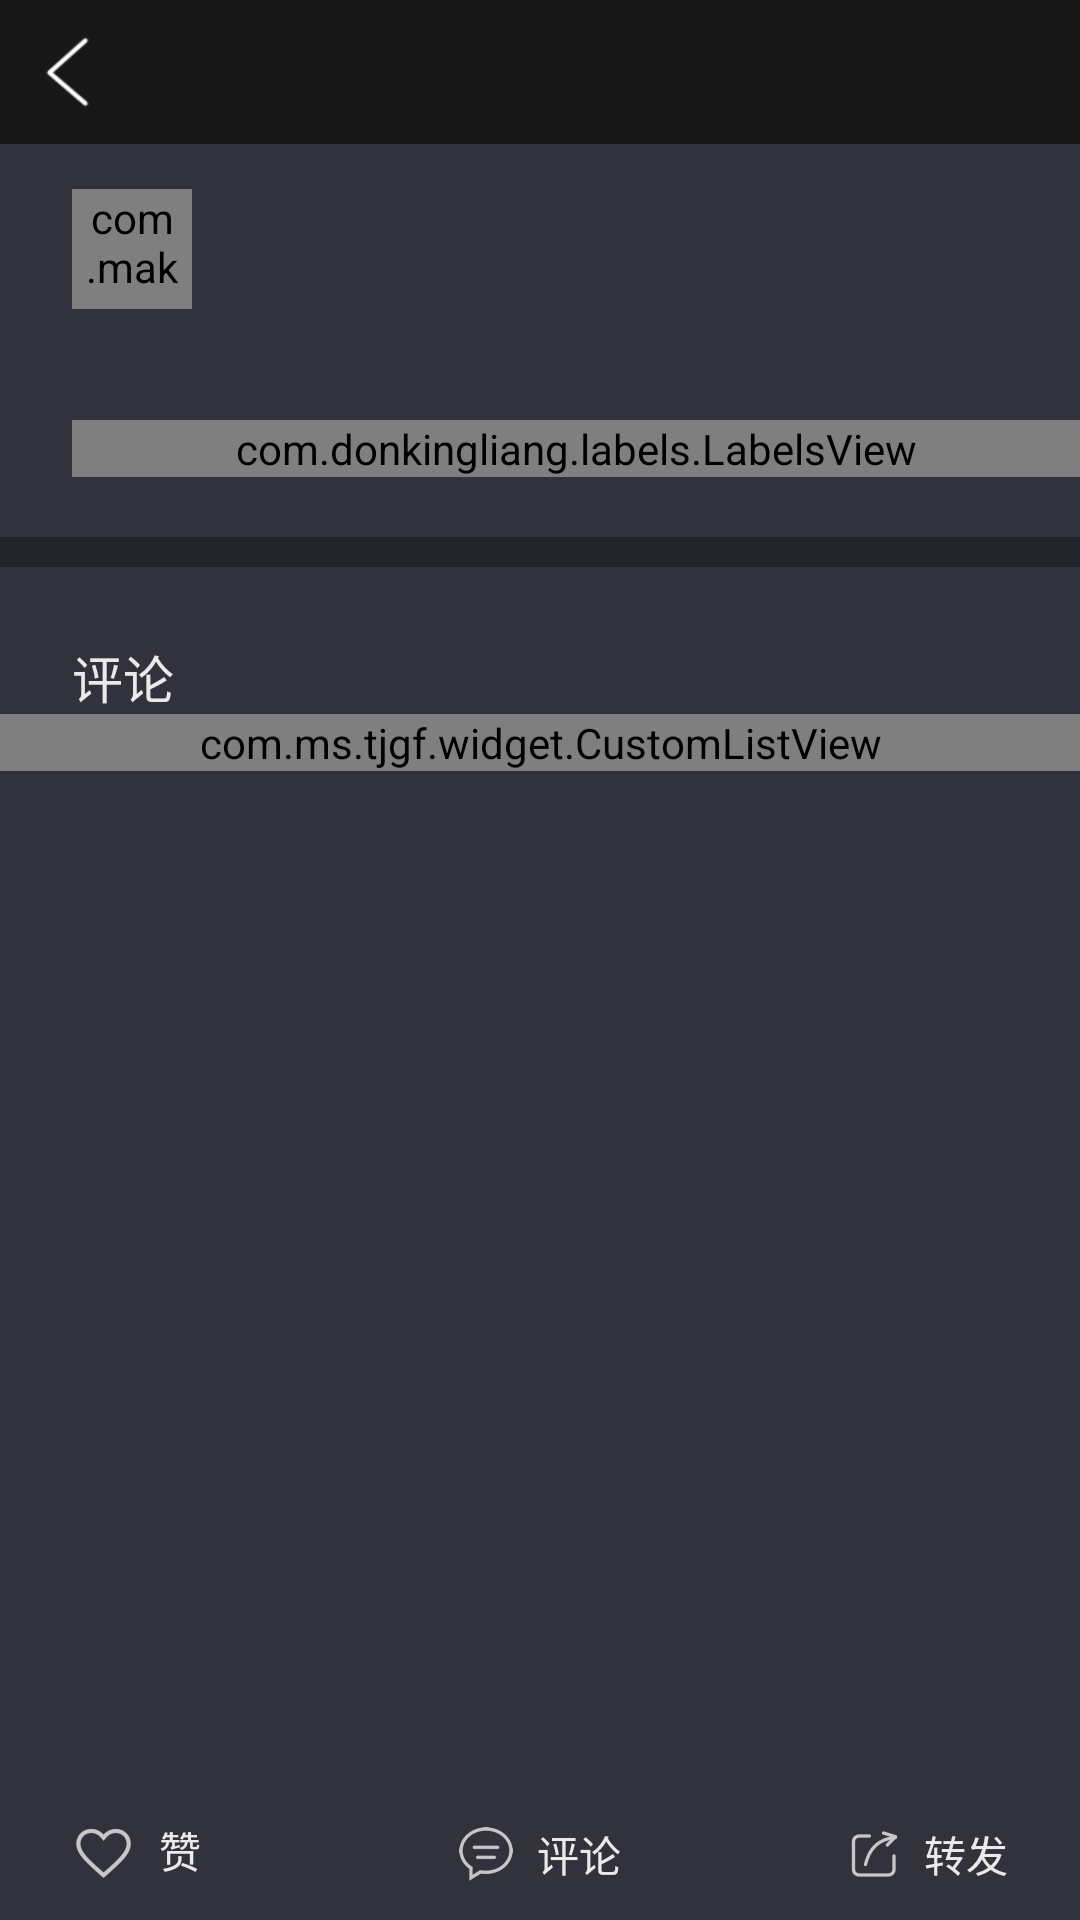

Icon bounding boxes for this 1080w x 1920h phone screenshot, format region(x1, y1, x2, y2):
titlebar back: region(46, 37, 89, 107)
